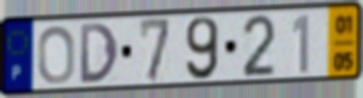1: (291, 13, 311, 75)
2: (240, 13, 277, 80)
7: (138, 15, 172, 85)
9: (184, 14, 221, 82)
D: (78, 21, 121, 86)
O: (36, 24, 77, 87)
